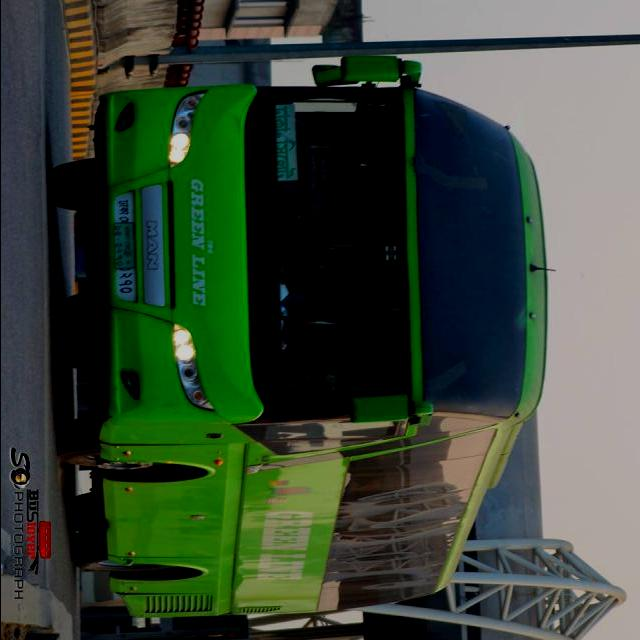bus: (52, 56, 549, 620)
